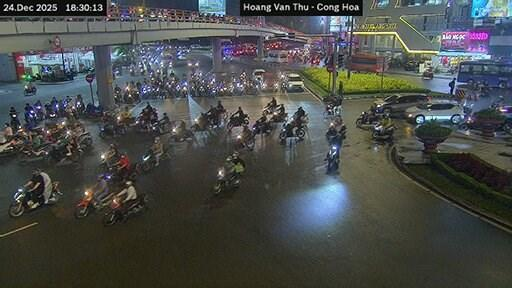motorbike: (102, 193, 147, 225), (74, 189, 112, 216), (211, 167, 240, 193), (44, 145, 82, 163), (9, 187, 29, 216), (38, 181, 60, 206), (19, 143, 50, 160), (96, 153, 118, 174), (278, 122, 304, 139), (98, 122, 125, 138), (371, 122, 396, 139), (169, 127, 192, 144), (140, 148, 156, 171), (326, 144, 338, 171), (357, 111, 378, 126), (189, 116, 211, 130), (234, 133, 253, 149), (227, 117, 249, 129), (252, 121, 271, 134), (77, 131, 92, 147), (323, 104, 339, 117), (86, 103, 102, 116), (0, 140, 14, 154), (325, 122, 336, 139), (9, 112, 19, 130), (34, 104, 44, 121), (73, 100, 85, 112), (262, 106, 278, 115), (160, 148, 169, 160), (422, 67, 432, 77), (24, 85, 34, 94), (39, 194, 41, 196)
